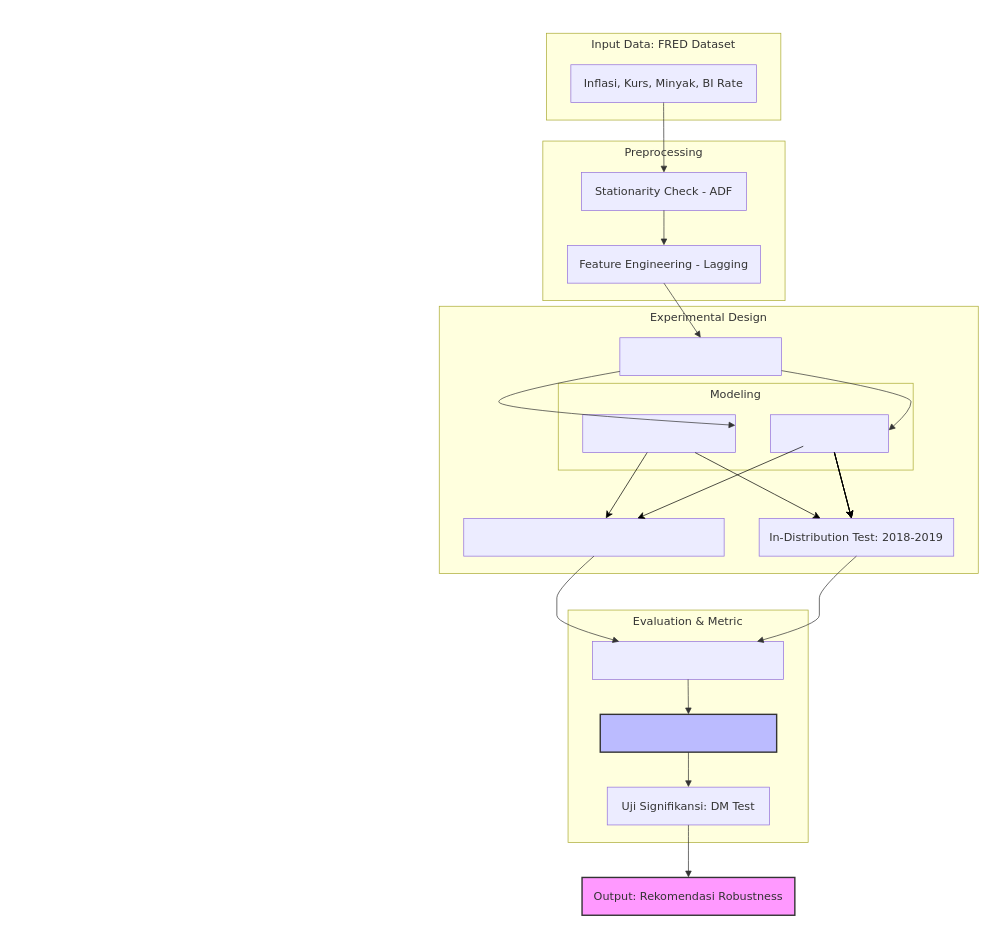
The diagram is 991 pixels wide and 928 high, and some of its shapes have lost their labels. The shapes that lost their labels are listed below. From the top down, each one's centre as x and y in pixels, then its label:
At (x=700, y=356): "Training Set: 2010-2017".
At (x=658, y=433): "Random Forest Model".
At (x=829, y=433): "ARIMAX Model".
At (x=593, y=537): "OOD Test: Covid & Regime Shift 2020-2023".
At (x=688, y=660): "Metrik Regresi: RMSE & MAE".
At (x=688, y=732): "Normalisasi: Fragility Index".
